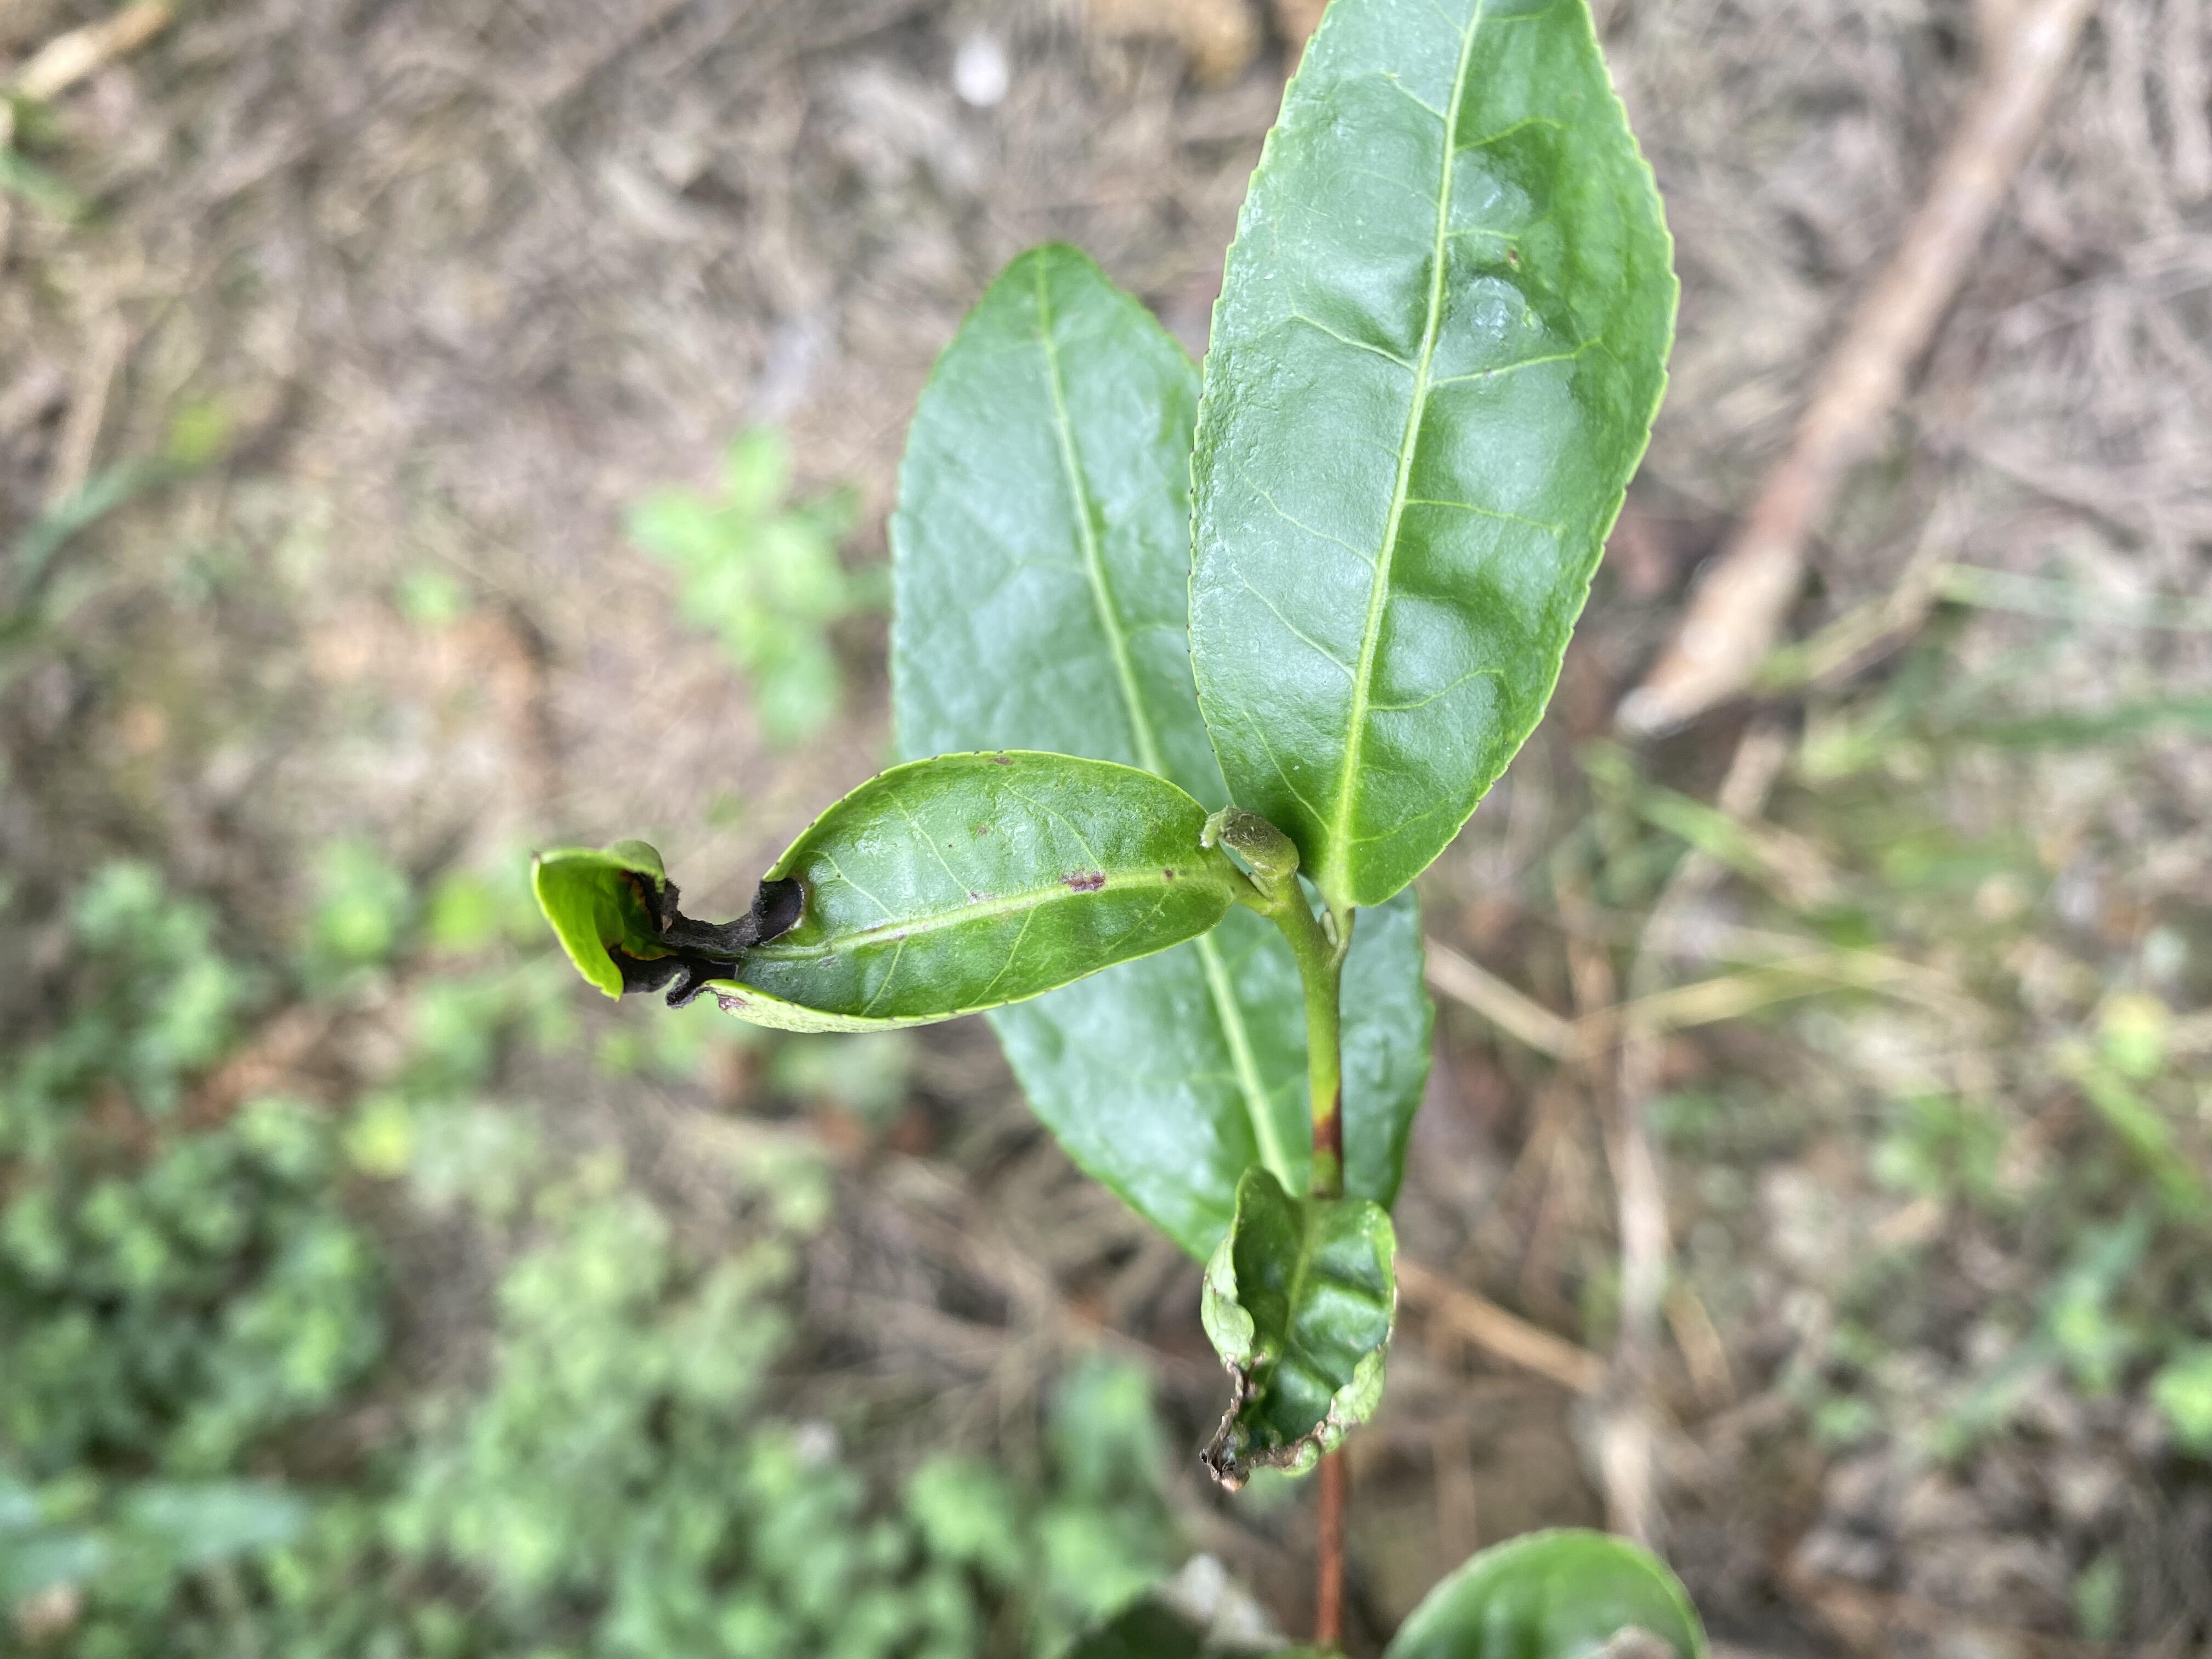healthy: (1184, 2, 1679, 911)
tanju_high: (531, 749, 1230, 1039), (1197, 1168, 1399, 1495)
